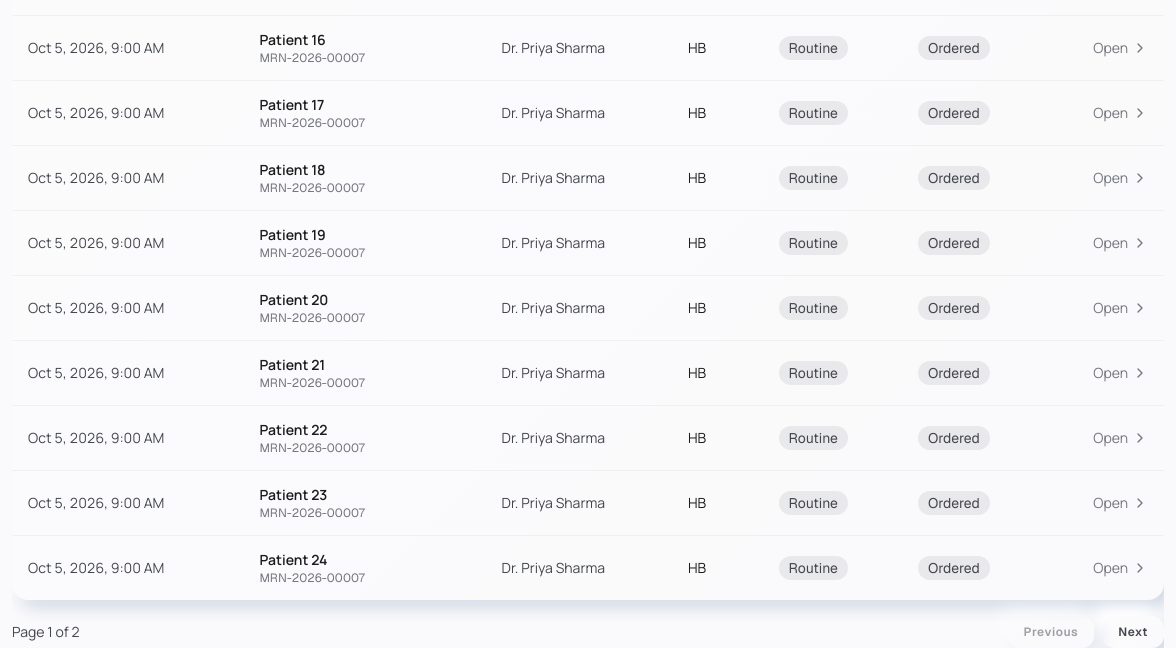
Test: lab worklist › pages through the server's pages
(page scrolled)
Click the button "Next" at (1133, 632), box [1102,616,1164,647]
(page scrolled)
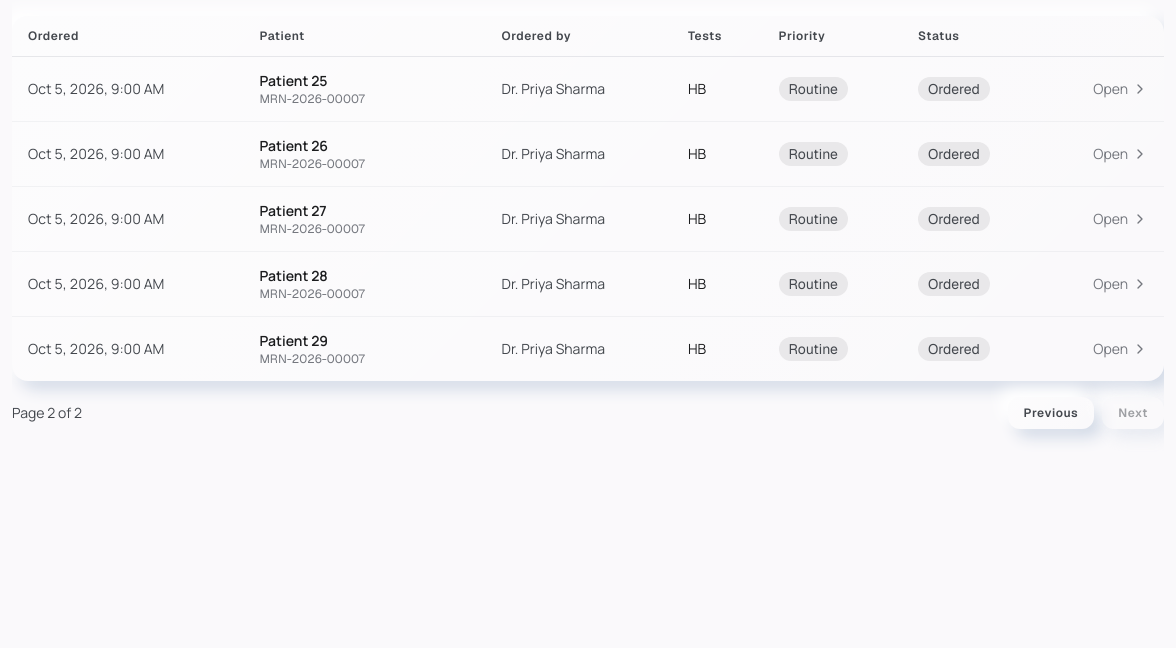
Expected: the row "Patient 29" is shown, [12,316,1164,381]
